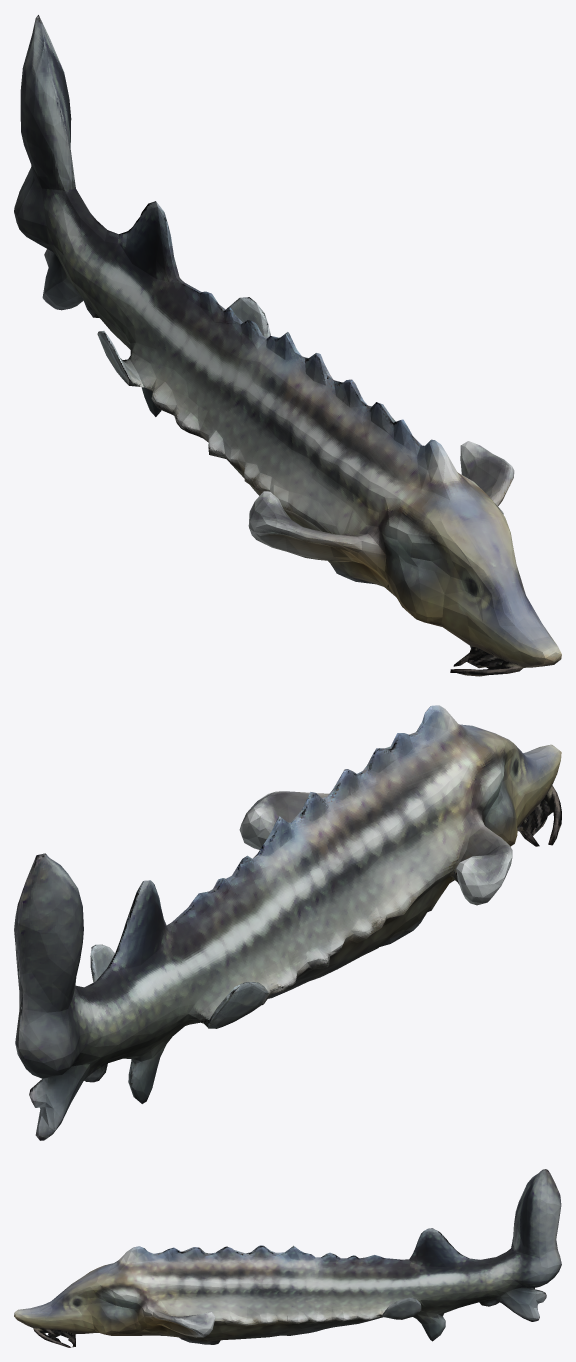
The model's file is mersin.glb.
3 views of the same model, one above another, from view 1: azimuth 30°, elevation 25°; view 2: azimuth 150°, elevation 25°; view 3: azimuth 270°, elevation 25° (orthographic). The views are drawn at different scales.
Visible parts, largest first — view 1: world; view 2: world; view 3: world.
Boxes of the visible parts, left/top/right/bottom form: world: left=14, top=15, right=561, bottom=676; world: left=14, top=705, right=561, bottom=1140; world: left=14, top=1169, right=561, bottom=1347.
Bounding box in the file's own units: 0.1925 × 0.2416 × 0.6986.
1 material, 1 textured.
